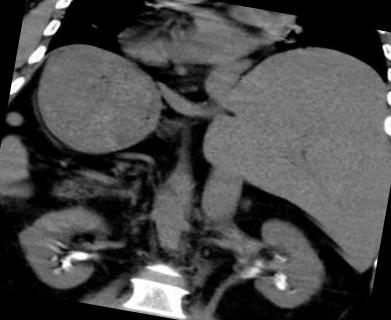Tas_Var: (66, 250, 93, 264), (54, 257, 77, 271), (271, 270, 291, 284), (271, 280, 286, 292), (272, 252, 288, 262)
